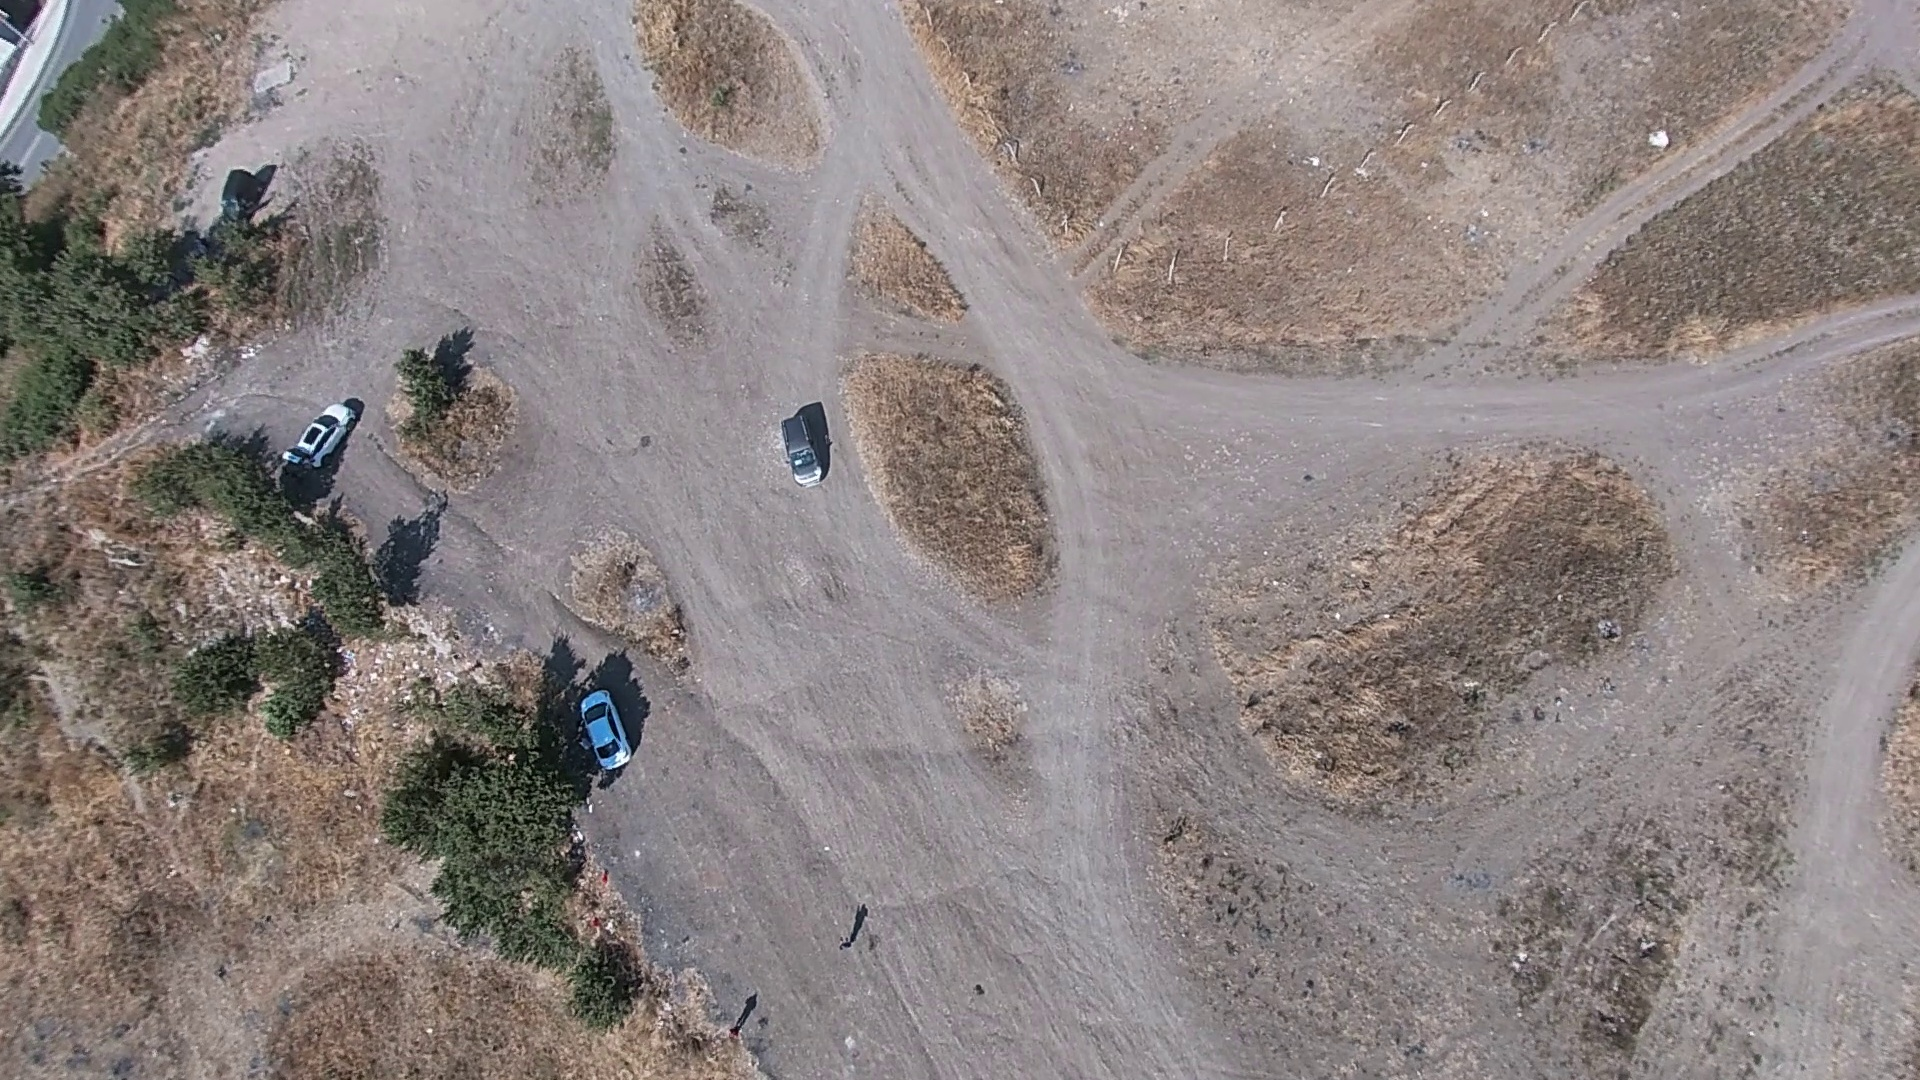araba: (276, 397, 359, 473), (573, 689, 633, 779), (773, 402, 824, 483)
insan: (724, 1024, 750, 1051), (836, 936, 862, 954)
